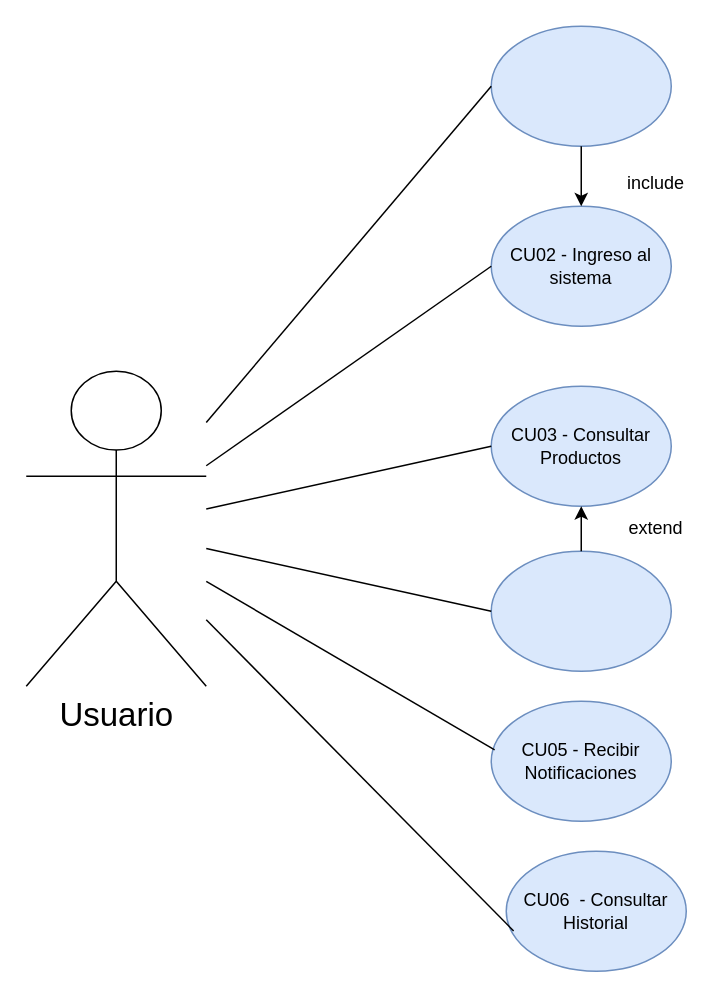
Some shapes in this 728 by 998 pixel diagram are drawn without their labels. Each missing label, with the centre of its shape:
"CU01 - Registro" goes at (x=580, y=85).
"CU04 - Comprar productos" goes at (x=580, y=610).
